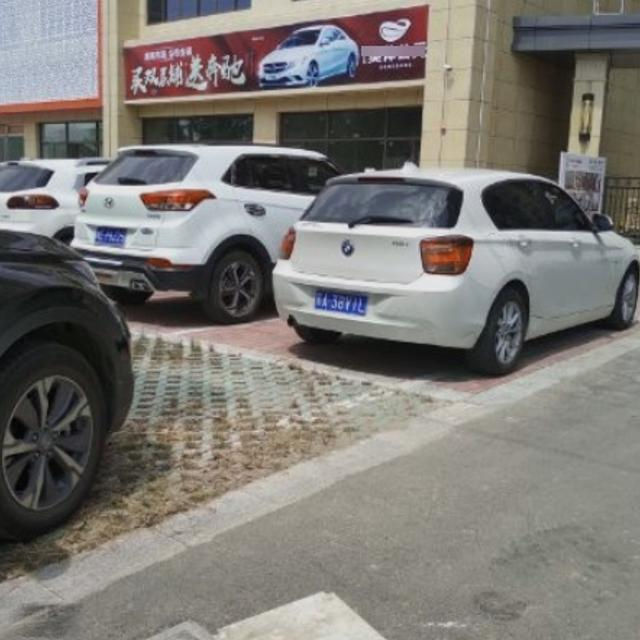broke: (33, 613, 520, 640)
